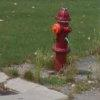Hydrant: (44, 4, 76, 69)
